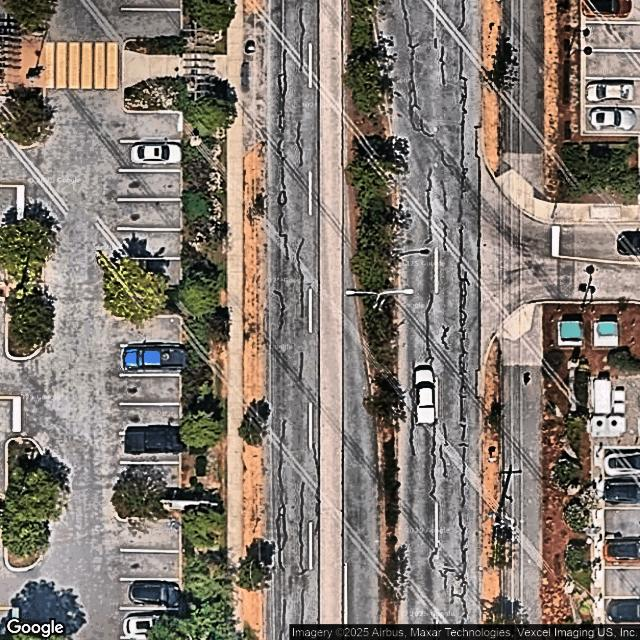car: (122, 343, 185, 372), (123, 425, 181, 455), (129, 581, 183, 610), (123, 612, 171, 640), (131, 142, 183, 166)
lot_boundary: (0, 0, 184, 639)
objects: (115, 288, 179, 316), (116, 493, 180, 519)
stall: (118, 200, 182, 229), (116, 231, 180, 260), (117, 404, 181, 433), (117, 375, 181, 404), (117, 317, 181, 346), (117, 259, 181, 288), (118, 170, 182, 199), (116, 464, 180, 493), (118, 347, 181, 376), (117, 113, 180, 142), (118, 10, 181, 39), (118, 551, 181, 580), (117, 523, 180, 552), (117, 142, 181, 170), (118, 580, 181, 608), (118, 436, 181, 464), (119, 610, 180, 638)
